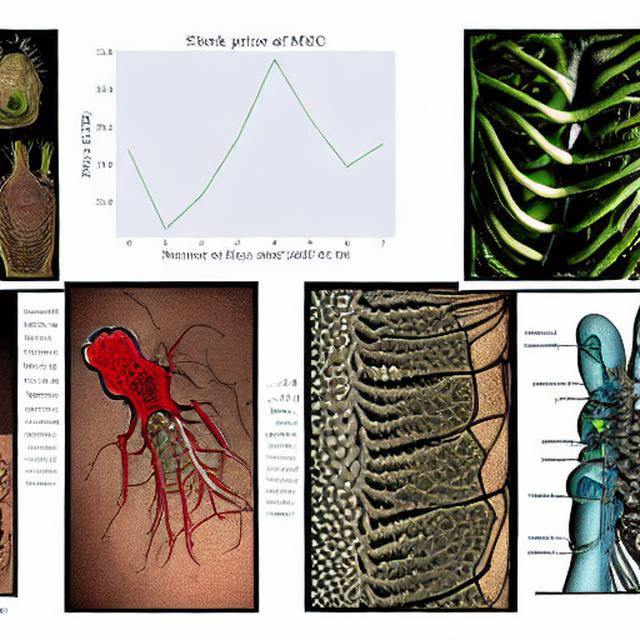Graph: (71, 7, 432, 278)
